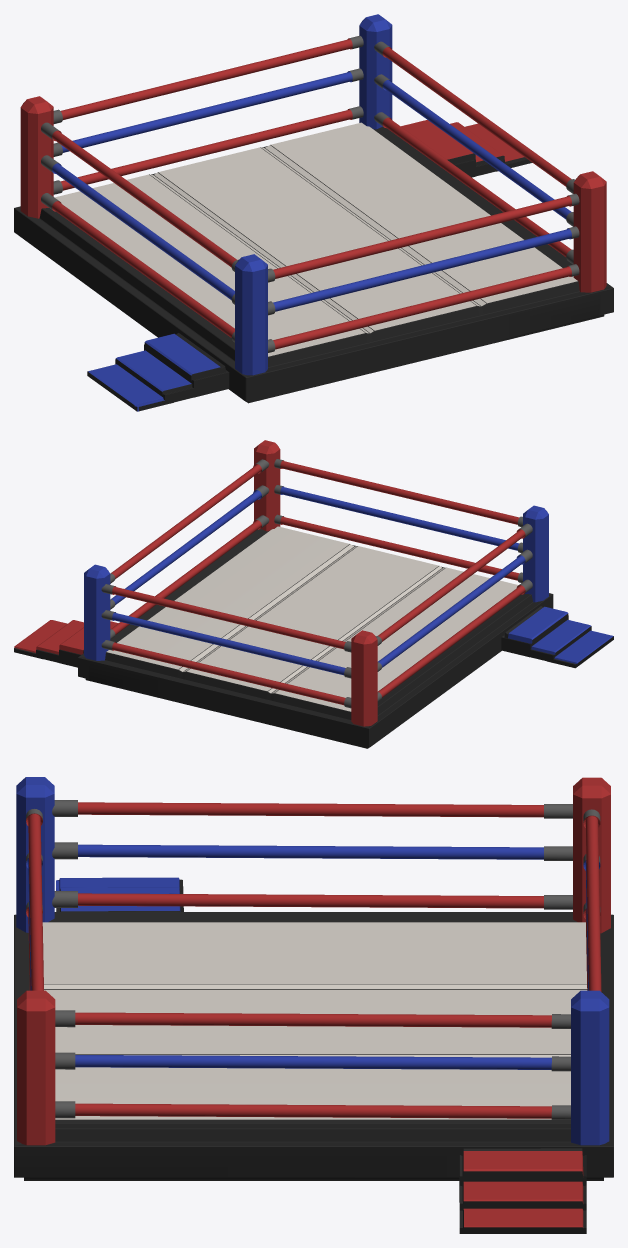
The model's file is ringfbx.fbx.
The picture shows the model from 3 angles, top to bottom: view 1: azimuth 30°, elevation 25°; view 2: azimuth 150°, elevation 25°; view 3: azimuth 270°, elevation 25°; orthographic projection. The views are drawn at different scales.
Visible parts, largest first — view 1: pCylinder13; view 2: pCylinder13; view 3: pCylinder13.
Part boxes in pixels (left/top/right/bottom): pCylinder13: left=14, top=14, right=613, bottom=411; pCylinder13: left=14, top=440, right=613, bottom=748; pCylinder13: left=14, top=777, right=613, bottom=1233.
Size of the model in its own units: 21.65 by 5.21 by 15.7.
